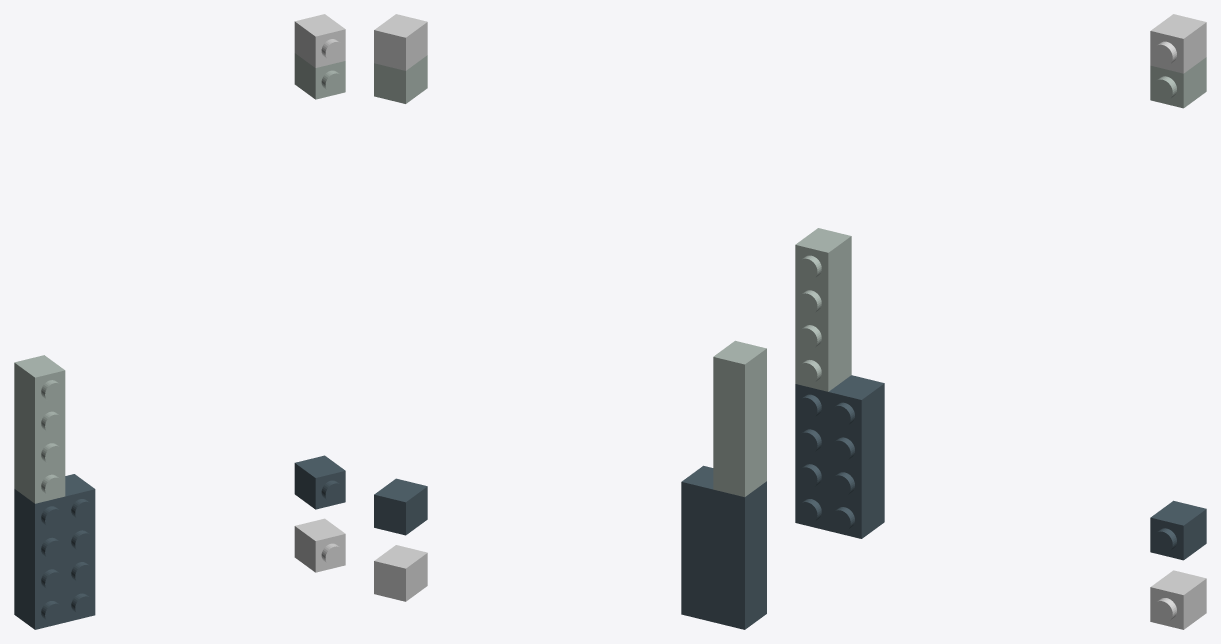
Rendered from current.glb.
3 renders of one model, left to right at view 1: azimuth 30°, elevation 25°; view 2: azimuth 150°, elevation 25°; view 3: azimuth 330°, elevation 25°, orthographic. The views are drawn at different scales.
Parts seen in each view (by area): view 1: world; view 2: world; view 3: world.
Part boxes in pixels (left/top/right/bottom): world: left=14, top=14, right=345, bottom=629; world: left=374, top=14, right=766, bottom=629; world: left=795, top=14, right=1206, bottom=629.
Size of the model in its own units: 88 by 136 by 21.
